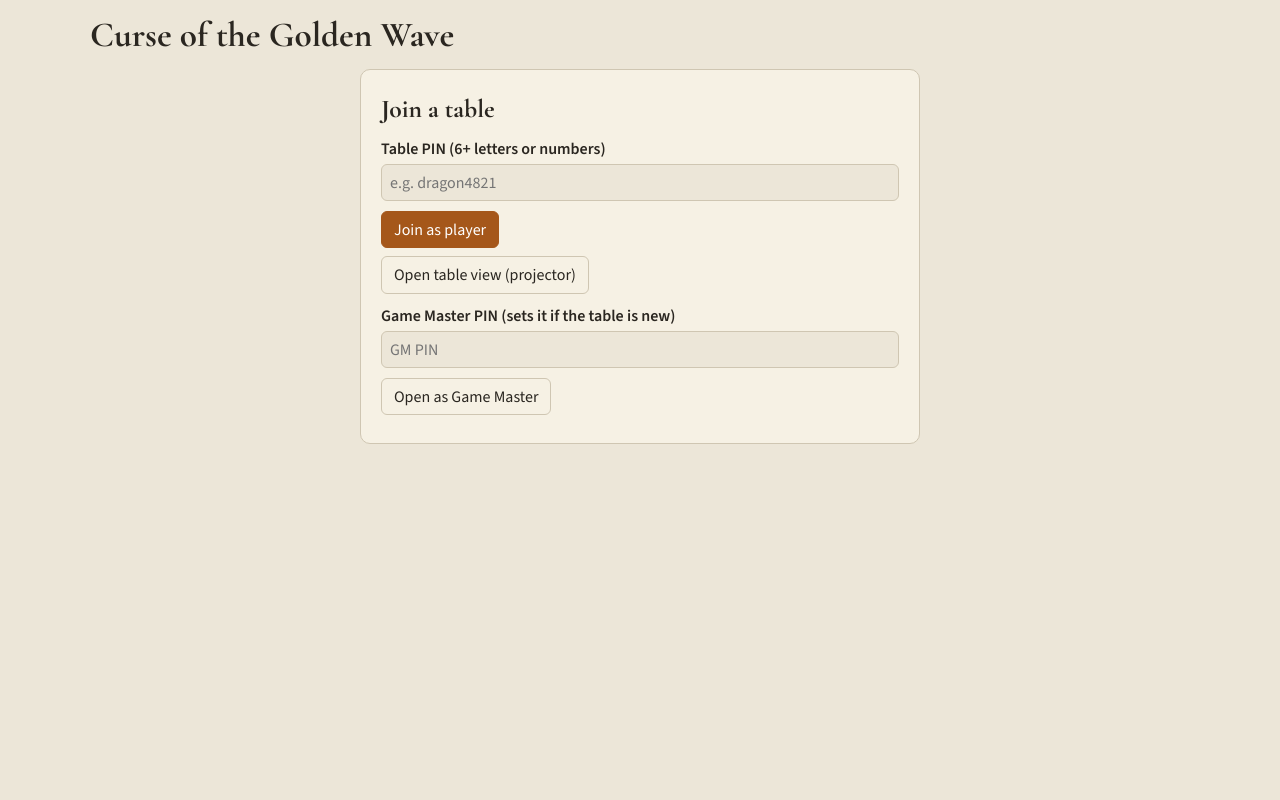
<Game /> joining › the table display joins without a character
Type "dragon42" into the field labelled "Table PIN (6+ letters or numbers)" at (640,183), box 381,164 -> 899,201
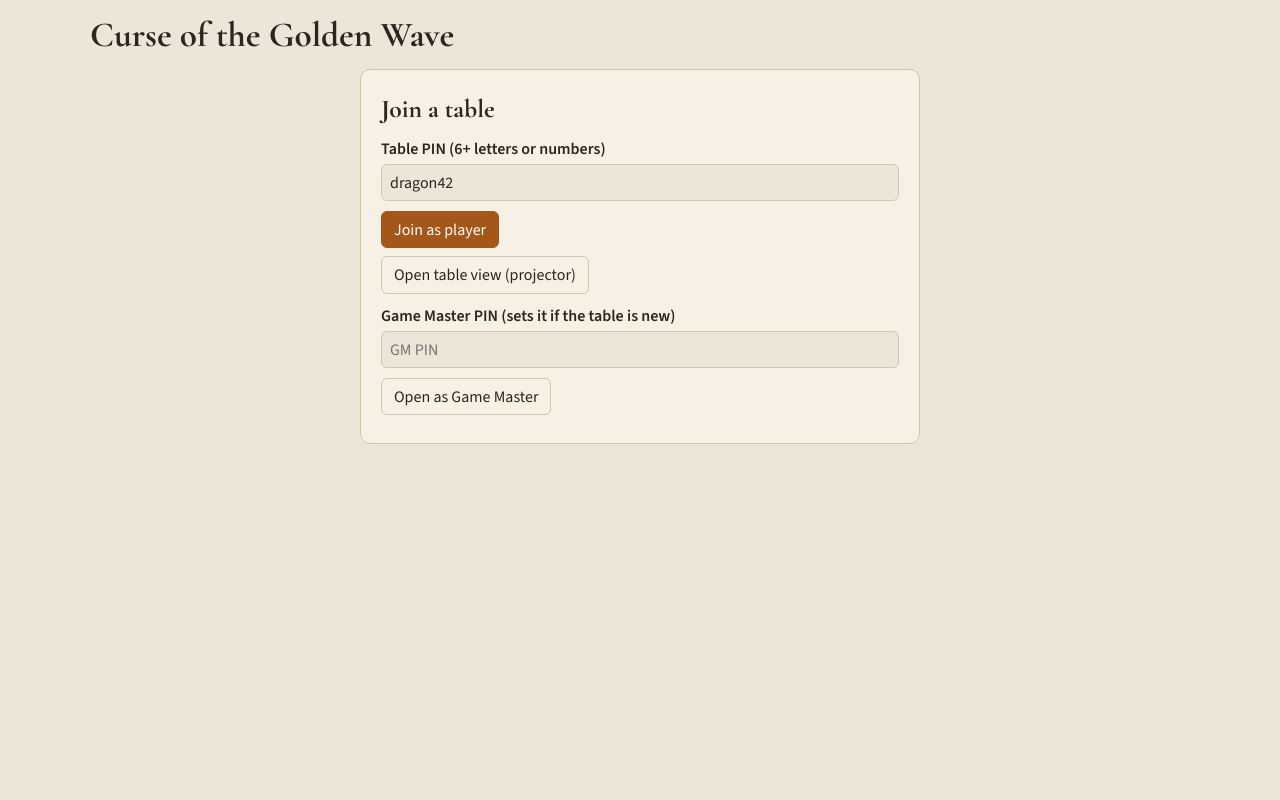
Click the button "Open table view (projector)" at (485,275), box 381,256 -> 589,294
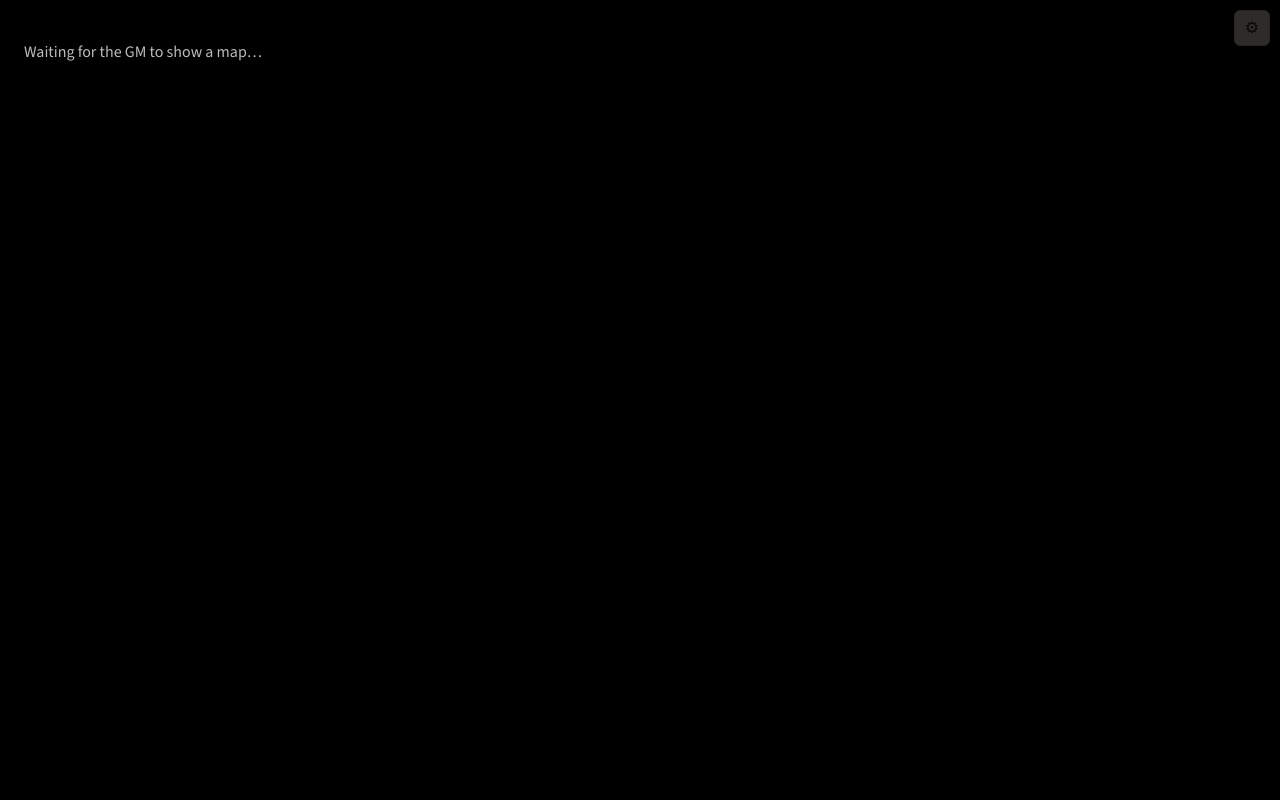
Now the text "Waiting for the GM to show a map…" is shown, box 24,41 -> 262,62
Now the button named "Table settings" is shown, box 1234,10 -> 1270,46
